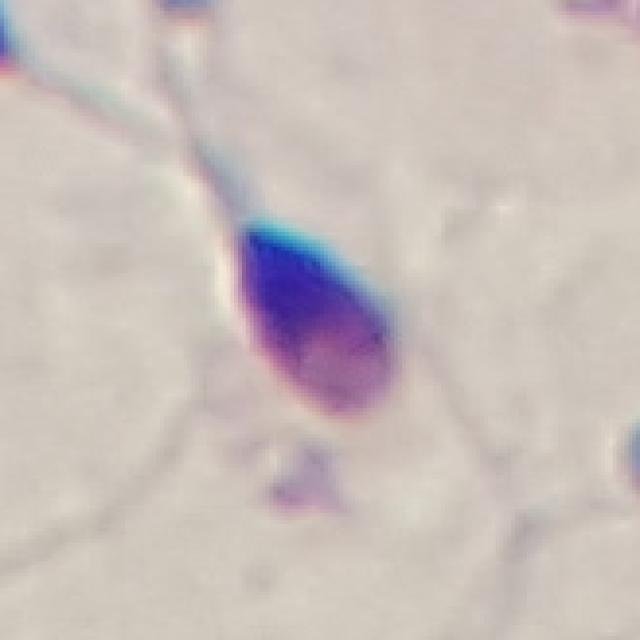normal sperm: (161, 96, 404, 416)
